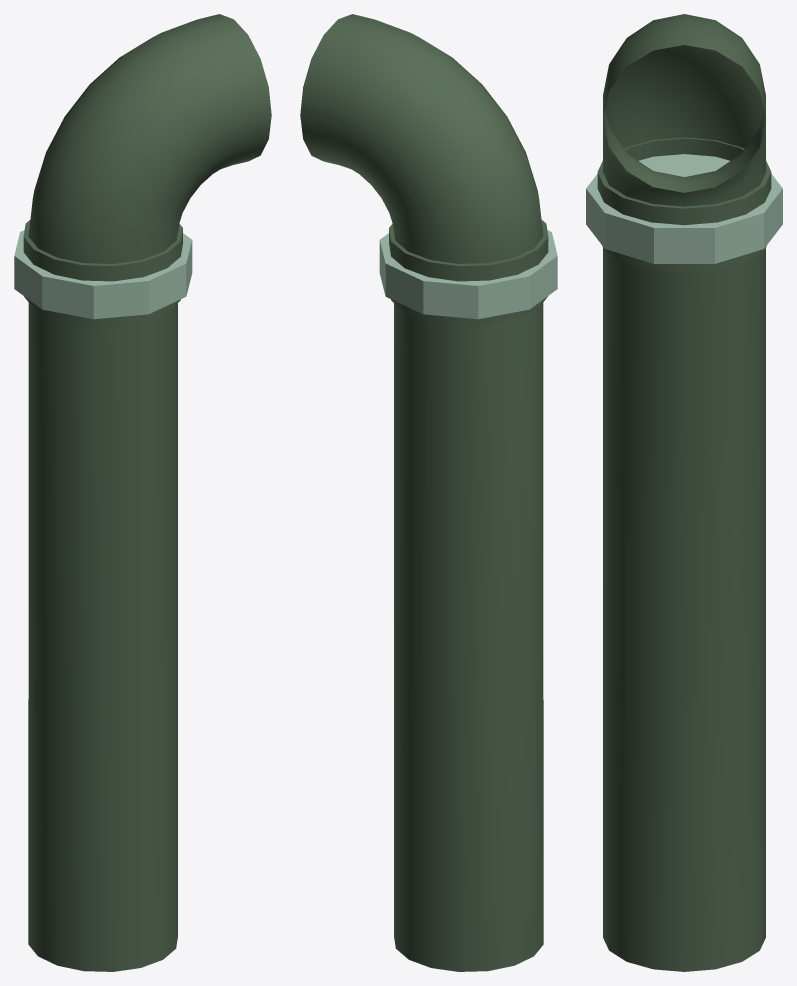
Rendered from PipeComplexLarge_A1_16.fbx.
3 renders of one model, left to right at view 1: azimuth 30°, elevation 25°; view 2: azimuth 150°, elevation 25°; view 3: azimuth 270°, elevation 25°, orthographic. The views are drawn at different scales.
Parts seen in each view (by area): view 1: PipeComplexLarge_A1_16.001; view 2: PipeComplexLarge_A1_16.001; view 3: PipeComplexLarge_A1_16.001.
Part boxes in pixels (box(x1,y1,x2,y2)): PipeComplexLarge_A1_16.001: box(14, 14, 271, 971); PipeComplexLarge_A1_16.001: box(300, 14, 557, 971); PipeComplexLarge_A1_16.001: box(586, 14, 782, 971).
Size of the model in its own units: 0.3147 by 1.3 by 0.2411.
